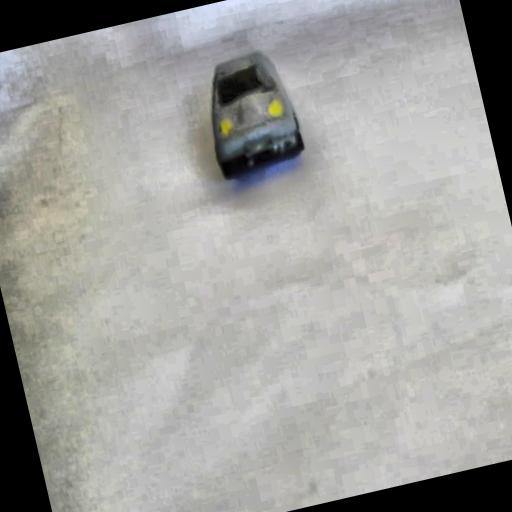normal_car: (211, 52, 303, 177)
